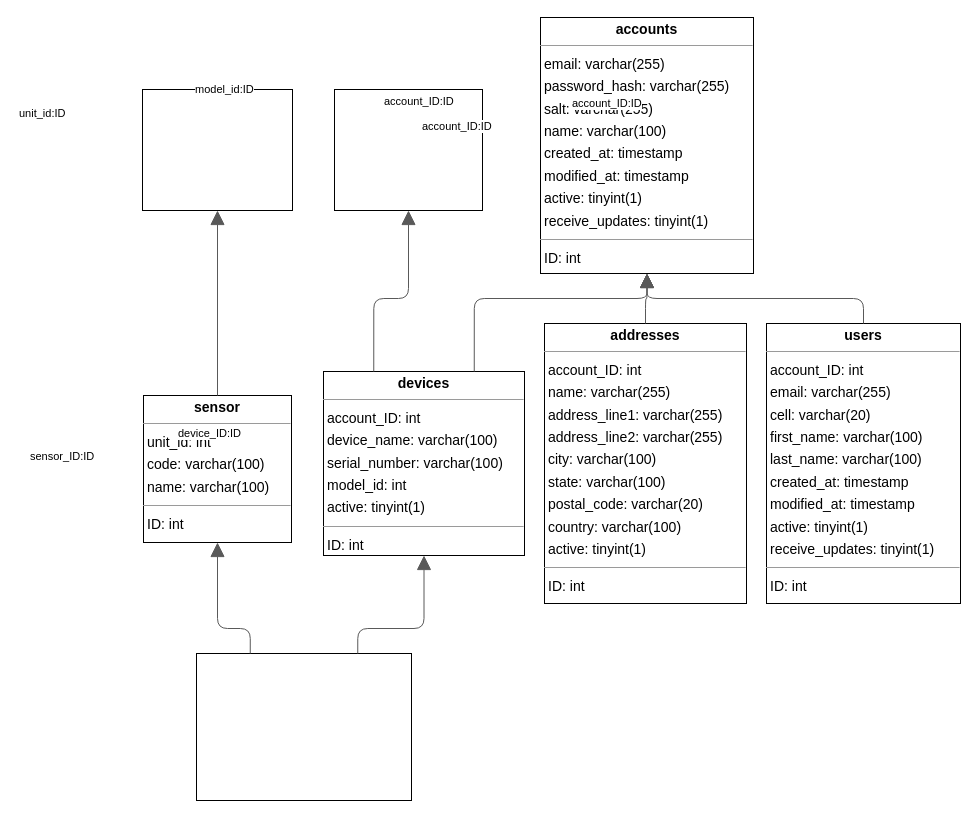
The diagram is 978 pixels wide and 818 high, and some of its shapes have lost their labels. Here are the shapes that lost their labels. From the top down, the centre of each, then its label:
point 217,149: units name: varchar(50) symbol: varchar(10) ID: int
point 408,149: models name: varchar(100) code: varchar(100) ID: int
point 304,726: device_attachements device_ID: int sensor_ID: int active: tinyint(1) ID: int
